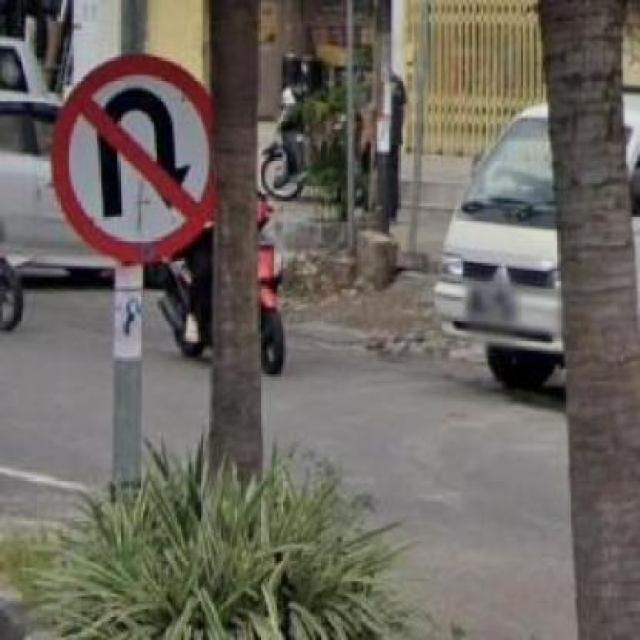u turn prohibited: (46, 52, 225, 263)
